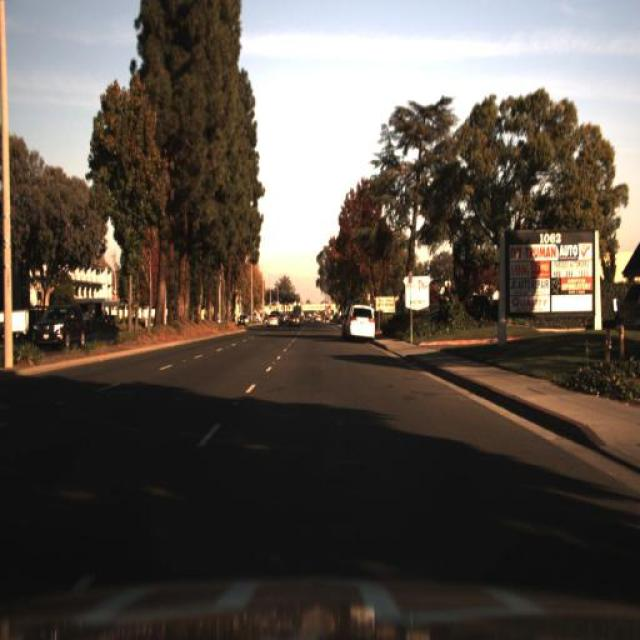car: (33, 303, 86, 352), (341, 300, 385, 342), (264, 308, 284, 333), (285, 309, 303, 335)
